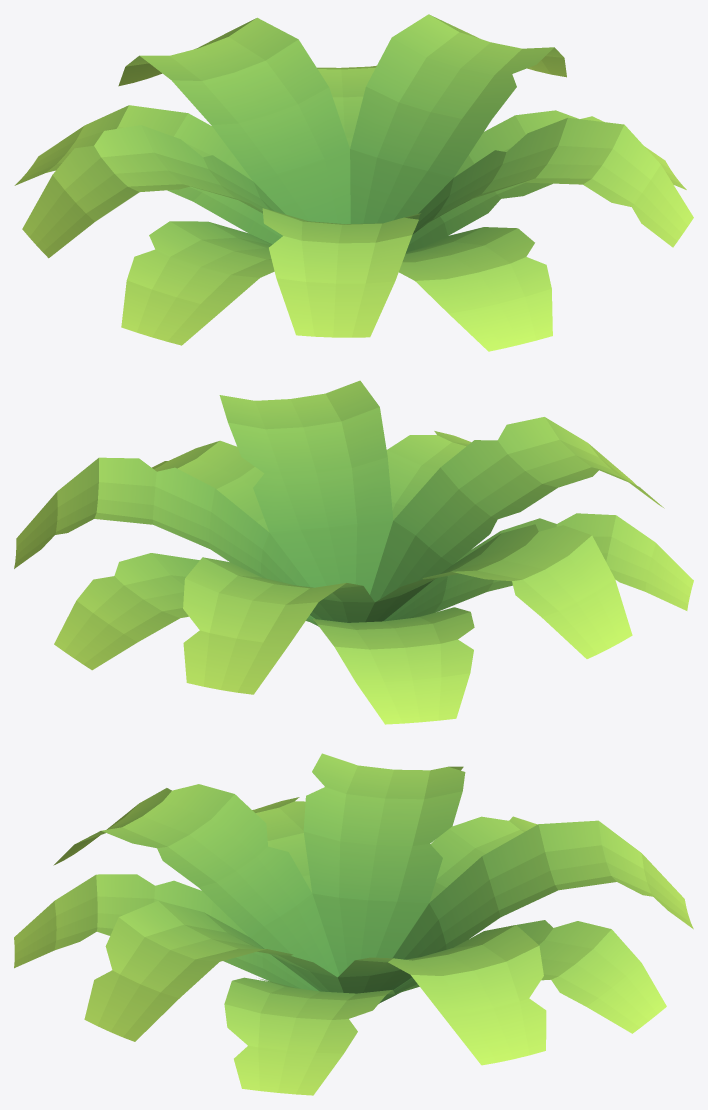
Rendered from GreenDoubleBush.fbx.
3 renders of one model, top to bottom at view 1: azimuth 30°, elevation 25°; view 2: azimuth 150°, elevation 25°; view 3: azimuth 270°, elevation 25°, orthographic. The views are drawn at different scales.
Parts seen in each view (by area): view 1: GreenDoubleBush; view 2: GreenDoubleBush; view 3: GreenDoubleBush.
Boxes of the visible parts, <box> form: GreenDoubleBush: <box>14,14,693,351</box>; GreenDoubleBush: <box>14,380,693,724</box>; GreenDoubleBush: <box>14,753,693,1095</box>.
Bounding box in the file's own units: 348 × 88.23 × 353.
